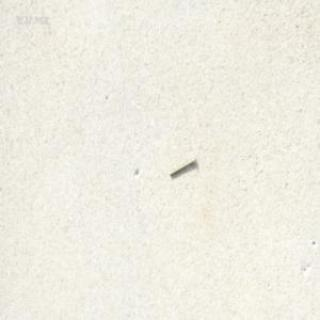Bolttrack_idkeyframe: (168, 154, 196, 178)
